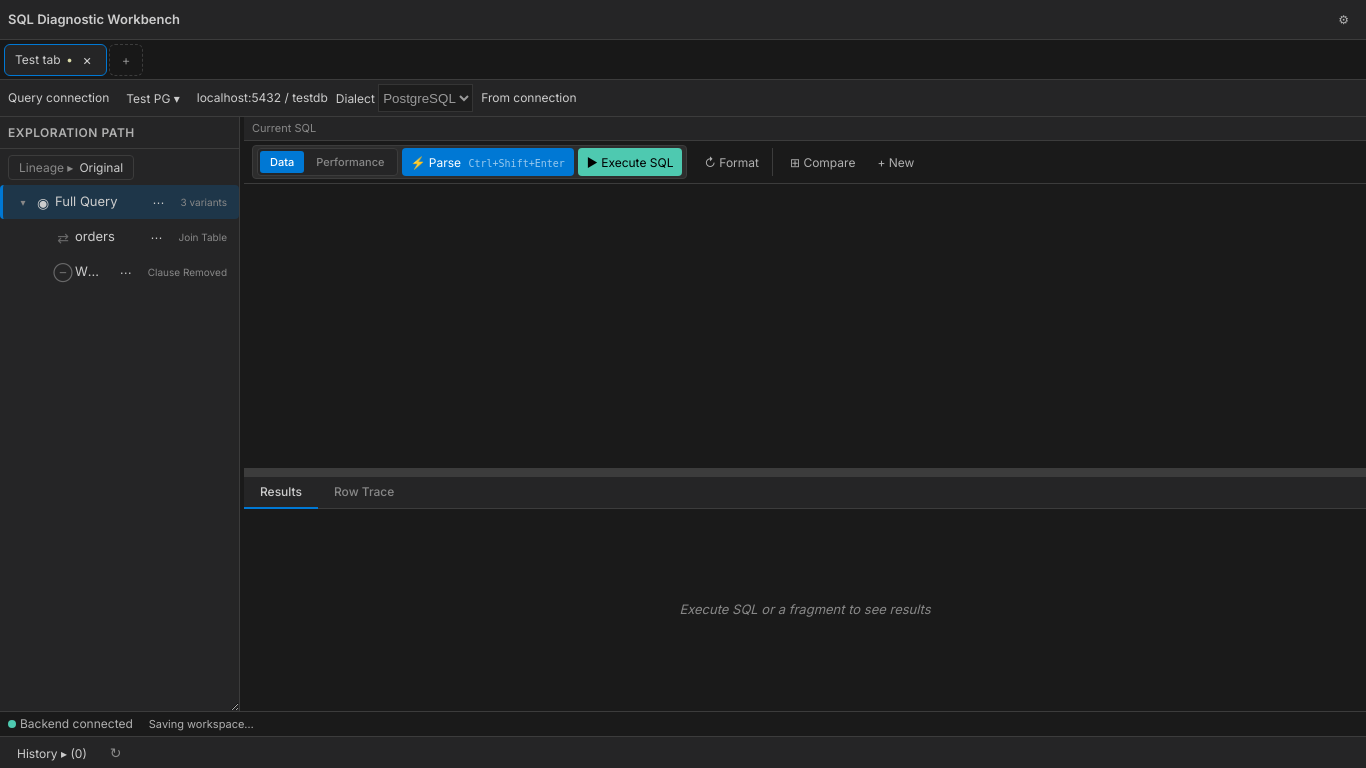
Test: App fragment-edit notice › renders the UNSUPPORTED notice, with the backend reason, when the edit cannot be canonicalized
Check: the button "▶ Execute SQL" is shown, box x1=578 y1=148 x2=682 y2=176
Right-click the list item "▾ ◉ Full Query ⋯ 3 variants" at [120, 202], box x1=0 y1=185 x2=239 y2=219
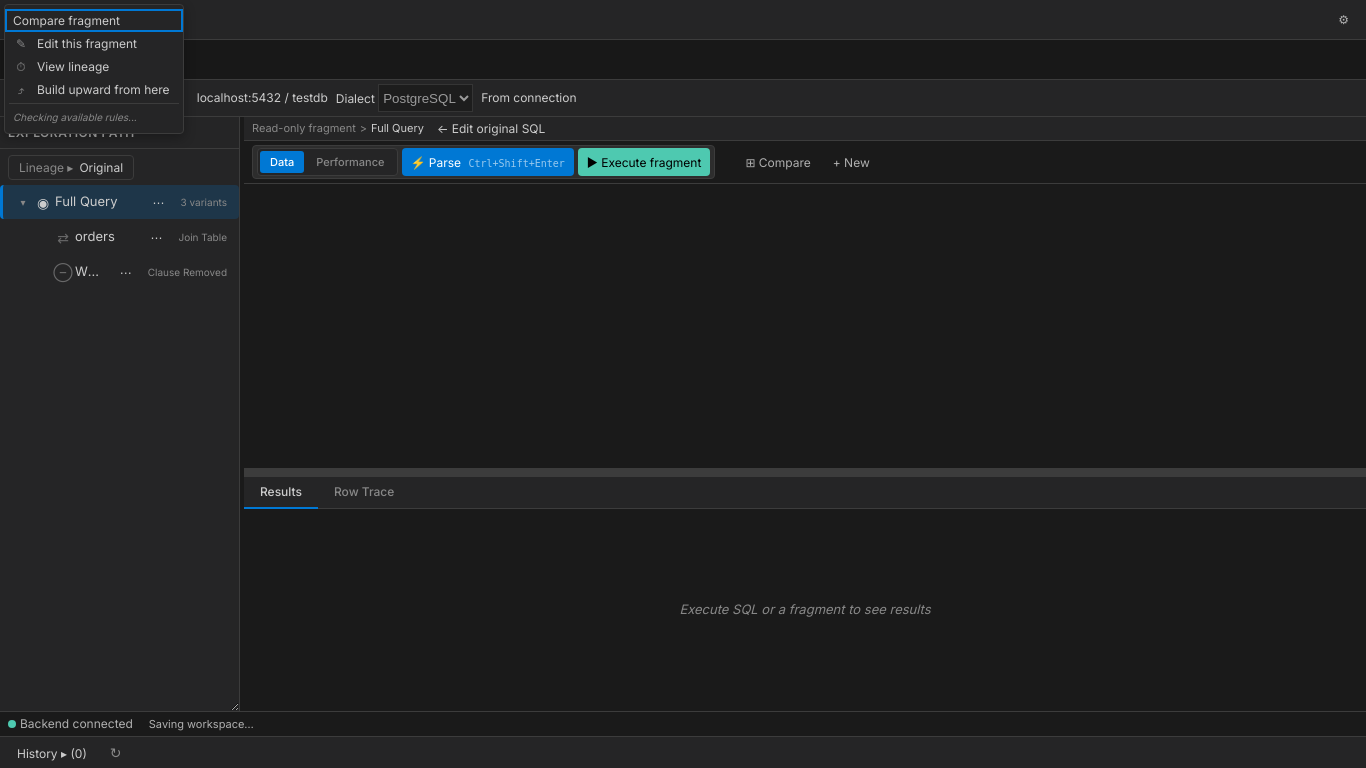
Click the menu item "✎ Edit this fragment" at [94, 44], box x1=5 y1=32 x2=183 y2=55
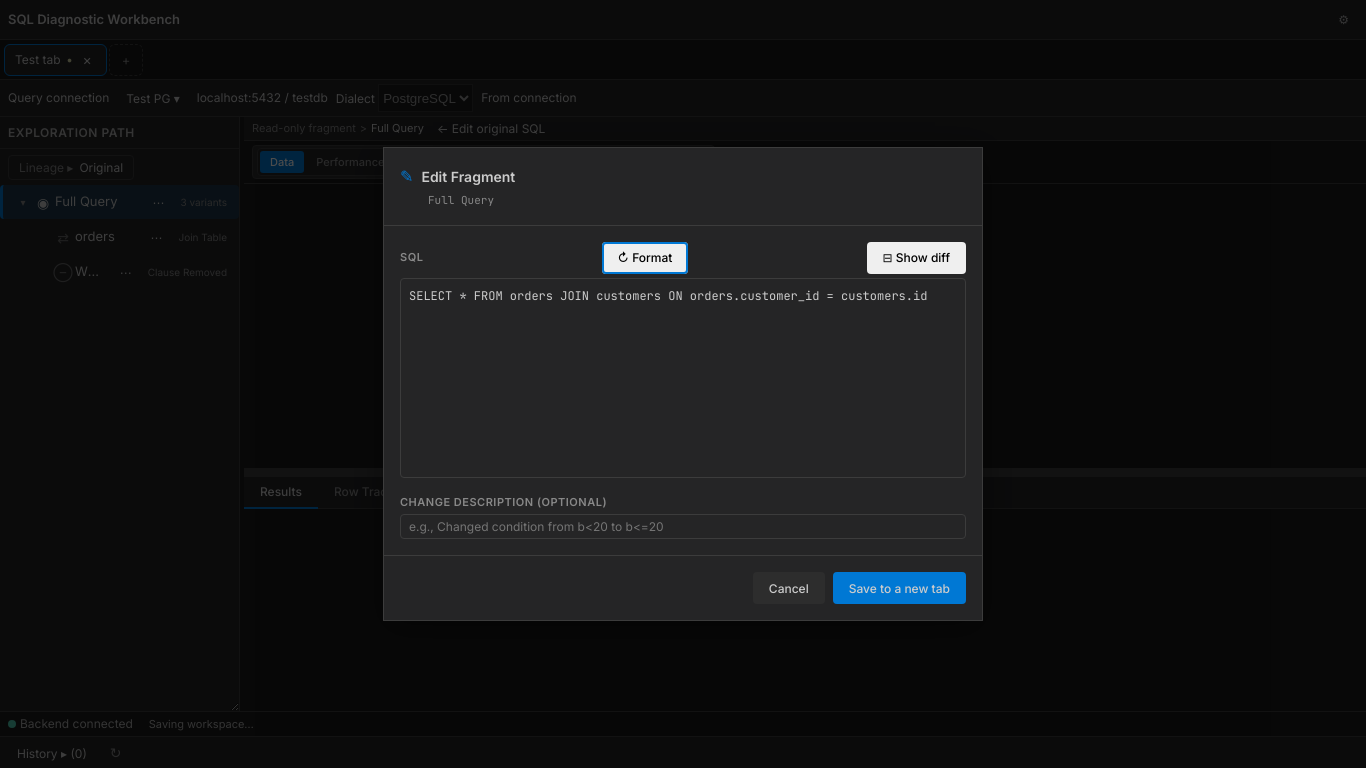
Replace the text in the text box named "SQL fragment editor" with "SELECT * FROM customers" at [683, 378], box x1=400 y1=278 x2=966 y2=478
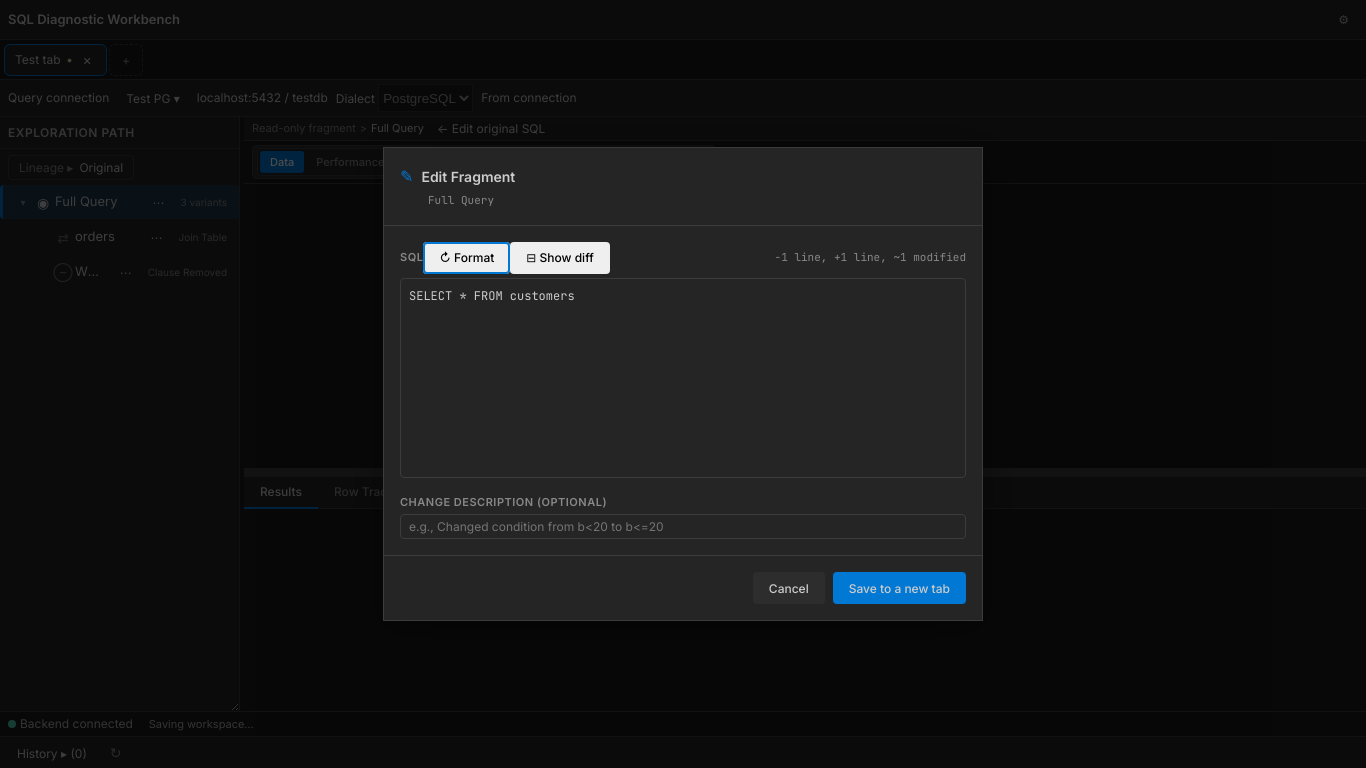
Click the button "Save to a new tab" at [899, 588], box x1=833 y1=572 x2=966 y2=604
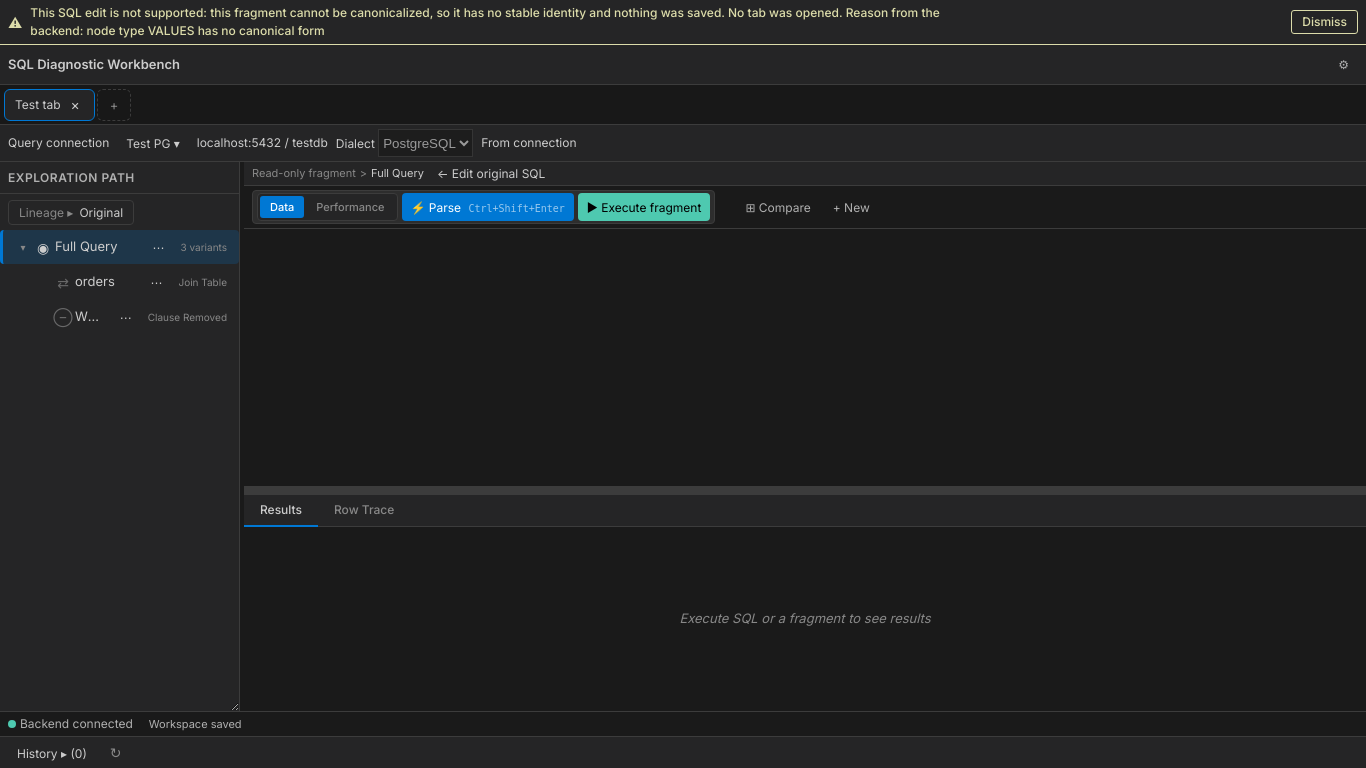
Check: the text "cannot be canonicalized" shows "This SQL edit is not supported", box x1=30 y1=5 x2=203 y2=20
Check: the text "cannot be canonicalized" shows "this fragment cannot be canonicalized, so it has no stable identity and nothing was saved.", box x1=30 y1=5 x2=940 y2=38
Check: the button "Dismiss" is shown, box x1=1291 y1=10 x2=1358 y2=34
